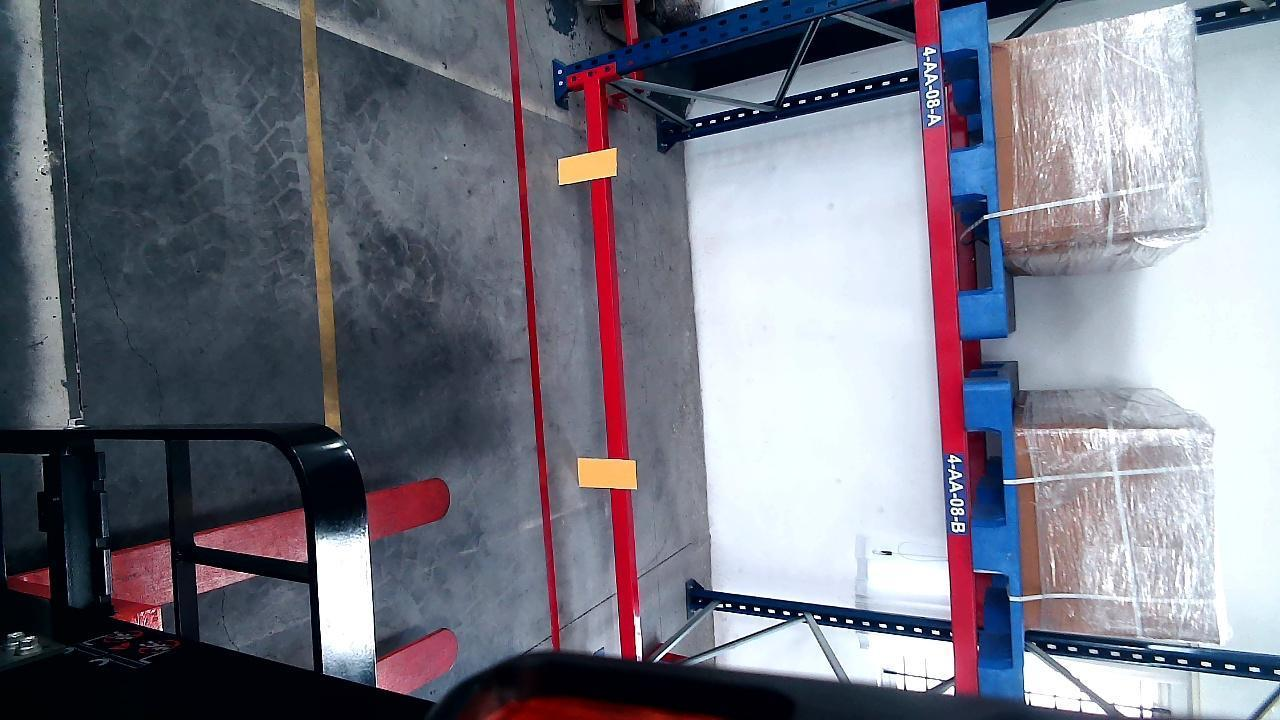h_rack: (917, 1, 976, 685), (591, 67, 635, 655)
orange_strip: (558, 147, 616, 183), (578, 457, 636, 490)
small_pallet: (942, 0, 1004, 334), (969, 389, 1025, 688)
yellow_line: (303, 0, 342, 437)
